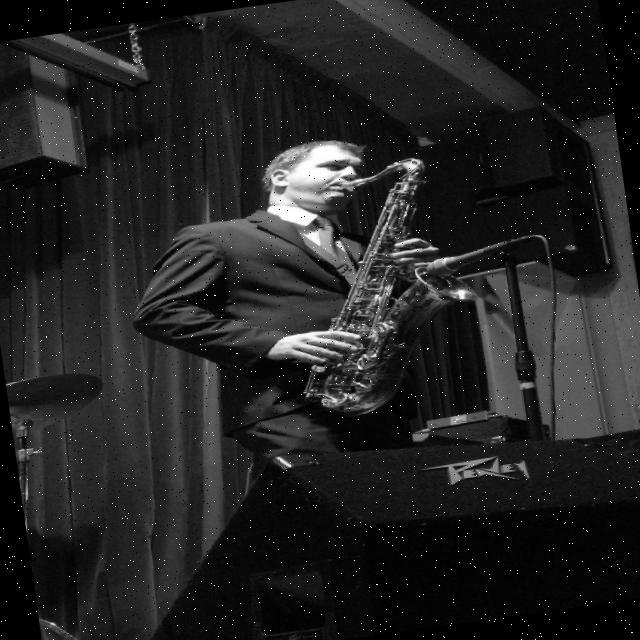drums: (5, 367, 138, 640)
saxophone: (272, 151, 484, 423)
